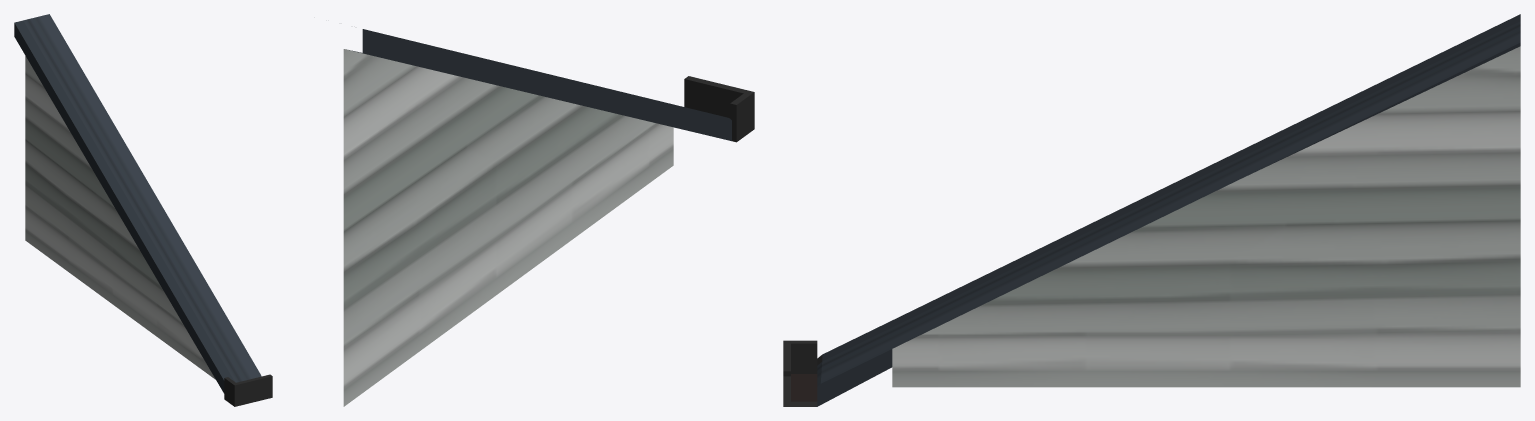
The model's file is SM_Bld_House_Roof_Angled_Gutter_02.fbx.
3 renders of one model, left to right at view 1: azimuth 30°, elevation 25°; view 2: azimuth 150°, elevation 25°; view 3: azimuth 270°, elevation 25°, orthographic. The views are drawn at different scales.
Parts seen in each view (by area): view 1: SM_Bld_House_Roof_Angled_Gutter_02; view 2: SM_Bld_House_Roof_Angled_Gutter_02; view 3: SM_Bld_House_Roof_Angled_Gutter_02.
Boxes of the visible parts, bbox=[...] form: SM_Bld_House_Roof_Angled_Gutter_02: bbox=[14, 14, 272, 406]; SM_Bld_House_Roof_Angled_Gutter_02: bbox=[343, 29, 754, 406]; SM_Bld_House_Roof_Angled_Gutter_02: bbox=[783, 14, 1520, 406].
Bounding box in the file's own units: 31.13 × 173 × 317.
